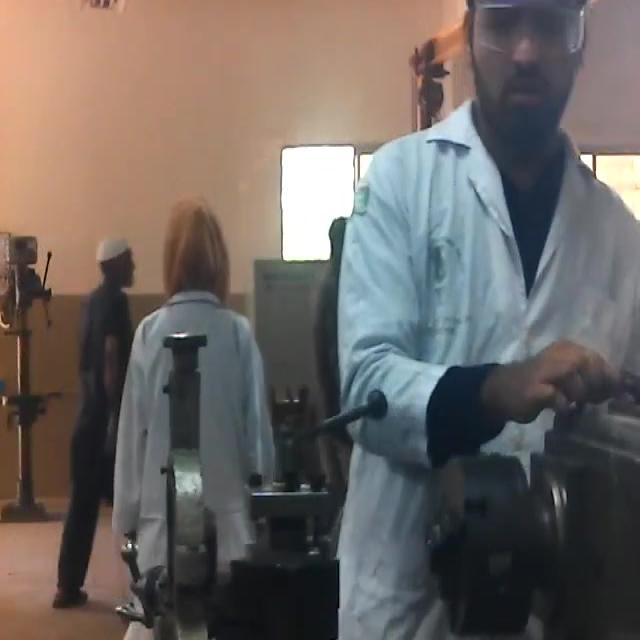googles: (468, 0, 586, 65)
labcoat: (330, 83, 640, 640), (111, 284, 280, 640)
